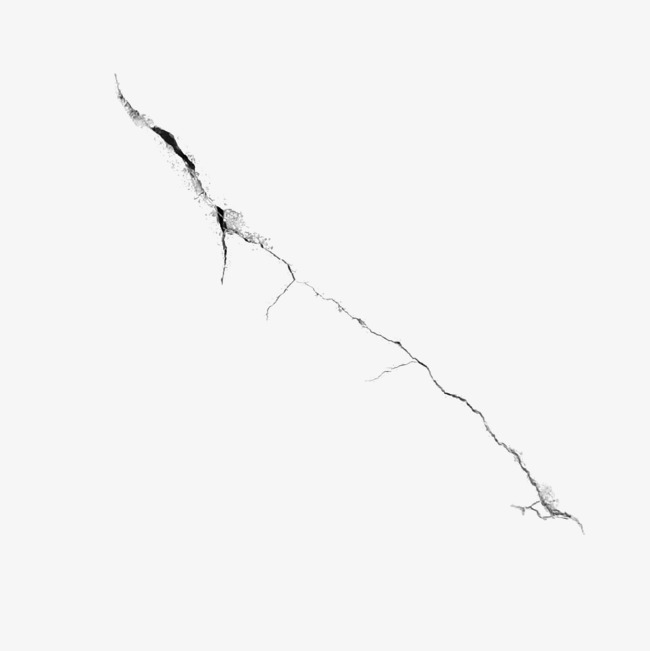crack: (313, 286, 430, 375)
